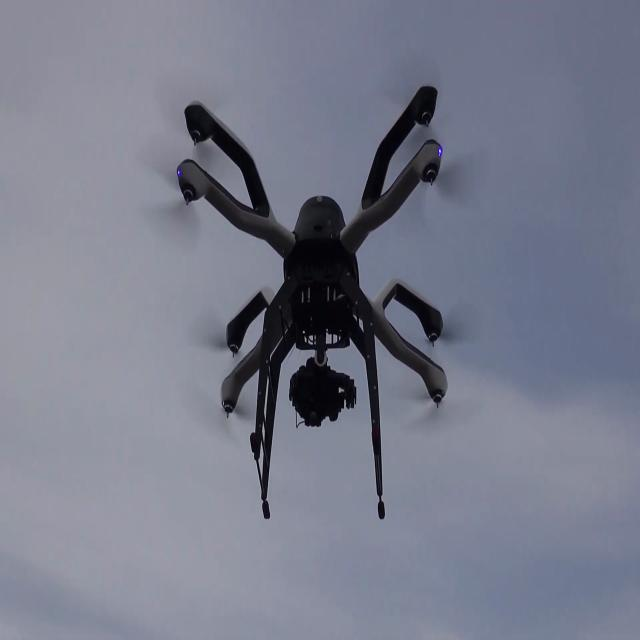drone: (174, 59, 471, 535)
